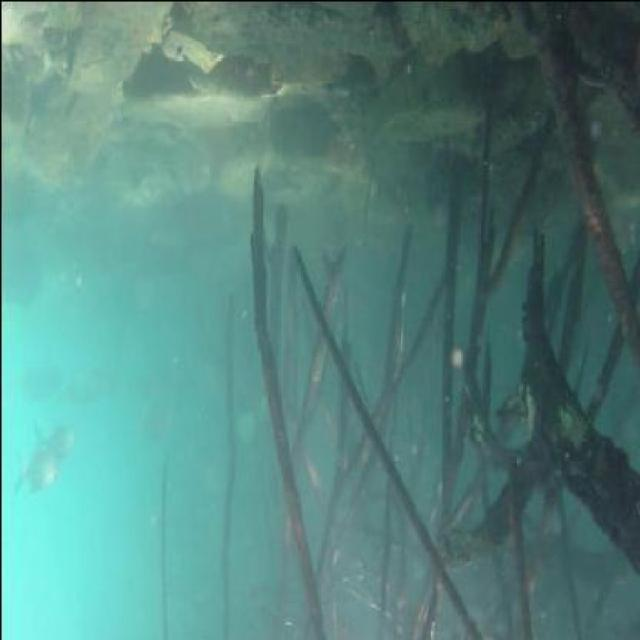Caranx_sexfasciatus_juvenile: (0, 354, 54, 411), (21, 415, 73, 471), (0, 457, 49, 501)
